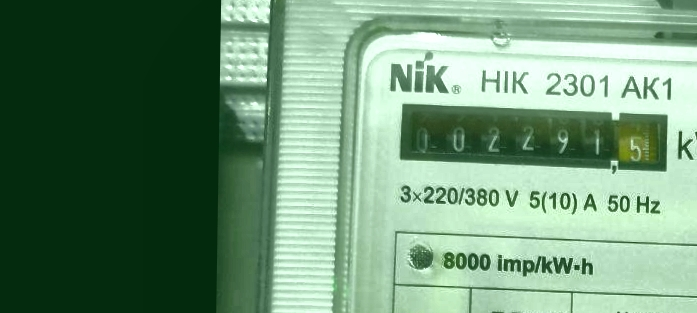0: (411, 123, 430, 152), (449, 123, 466, 153)
1: (588, 125, 603, 159)
2: (484, 124, 501, 153), (519, 122, 534, 152)
5: (626, 132, 643, 162)
9: (553, 125, 570, 155)
screen: (394, 98, 672, 178)
